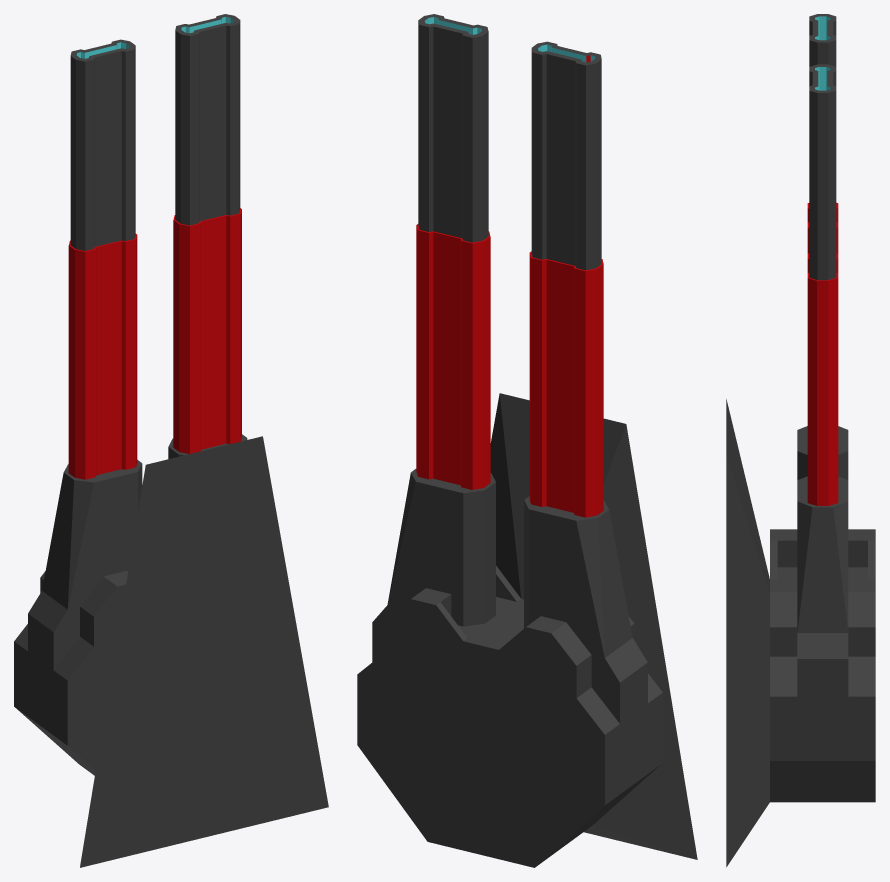
File: LongRangeRailgun.fbx
The picture shows the model from 3 angles, left to right: view 1: azimuth 30°, elevation 25°; view 2: azimuth 150°, elevation 25°; view 3: azimuth 270°, elevation 25°; orthographic projection. The views are drawn at different scales.
Parts seen in each view (by area): view 1: LongRangeRailgun; view 2: LongRangeRailgun; view 3: LongRangeRailgun.
Boxes of the visible parts, bbox=[...] form: LongRangeRailgun: bbox=[14, 14, 328, 867]; LongRangeRailgun: bbox=[357, 14, 697, 867]; LongRangeRailgun: bbox=[726, 14, 875, 867].
Size of the model in its own units: 1946 by 5704 by 1025.
